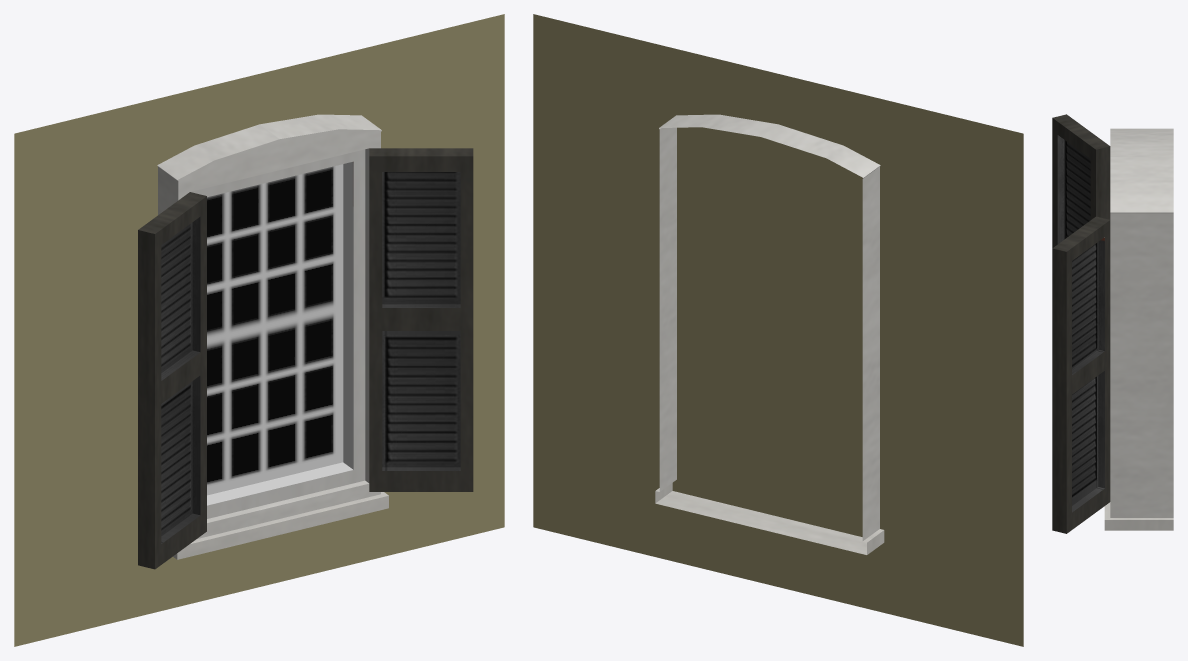
Rendered from Window_WOOD_OPEN_THREE_BY_THREE.fbx.
The picture shows the model from 3 angles, left to right: view 1: azimuth 30°, elevation 25°; view 2: azimuth 150°, elevation 25°; view 3: azimuth 270°, elevation 25°; orthographic projection. The views are drawn at different scales.
Parts seen in each view (by area): view 1: Wood_Window_Three_Open; view 2: Wood_Window_Three_Open; view 3: Wood_Window_Three_Open.
Boxes of the visible parts, left/top/right/bottom form: Wood_Window_Three_Open: left=14, top=14, right=504, bottom=646; Wood_Window_Three_Open: left=533, top=14, right=1023, bottom=646; Wood_Window_Three_Open: left=1052, top=114, right=1173, bottom=533.
Bounding box in the file's own units: 3 × 3 × 0.7634.
